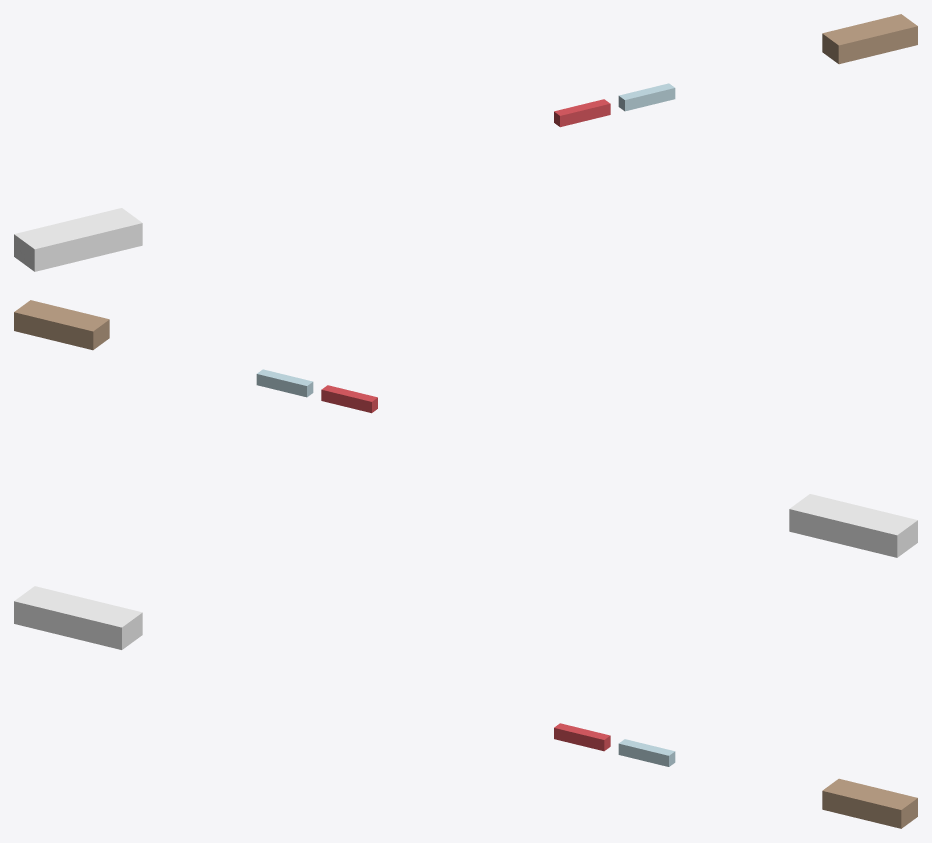
The model's file is Decor_SmallProps.glb.
3 views of the same model, one above another, from view 1: azimuth 30°, elevation 25°; view 2: azimuth 150°, elevation 25°; view 3: azimuth 330°, elevation 25° (orthographic).
Visible parts, largest first — view 1: Board_ChalkBox, Board_Eraser, Board_Marker_Blue, Board_Marker_Red; view 2: Board_ChalkBox, Board_Eraser, Board_Marker_Blue, Board_Marker_Red; view 3: Board_ChalkBox, Board_Eraser, Board_Marker_Blue, Board_Marker_Red.
Boxes of the visible parts, box(x1,y1,x2,y2) form: Board_ChalkBox: box(14, 208, 142, 271); Board_Eraser: box(822, 14, 917, 64); Board_Marker_Blue: box(618, 83, 675, 111); Board_Marker_Red: box(554, 99, 610, 127); Board_ChalkBox: box(789, 494, 917, 557); Board_Eraser: box(14, 300, 109, 350); Board_Marker_Blue: box(256, 369, 313, 397); Board_Marker_Red: box(321, 385, 377, 413); Board_ChalkBox: box(14, 586, 142, 649); Board_Eraser: box(822, 778, 917, 828); Board_Marker_Blue: box(618, 739, 675, 766); Board_Marker_Red: box(554, 723, 610, 751).
Size of the model in its own units: 2.46 by 0.075 by 0.1.
